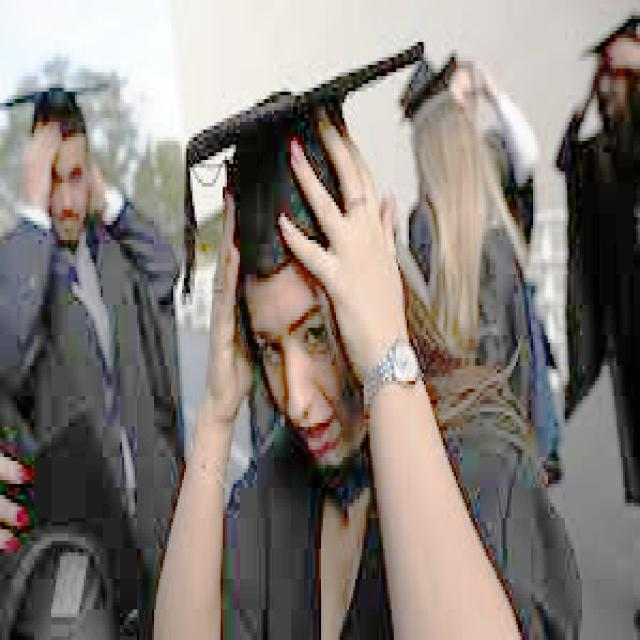TOPI: (175, 34, 426, 274), (0, 72, 111, 137), (565, 0, 638, 69), (392, 46, 460, 106), (443, 42, 490, 110)
